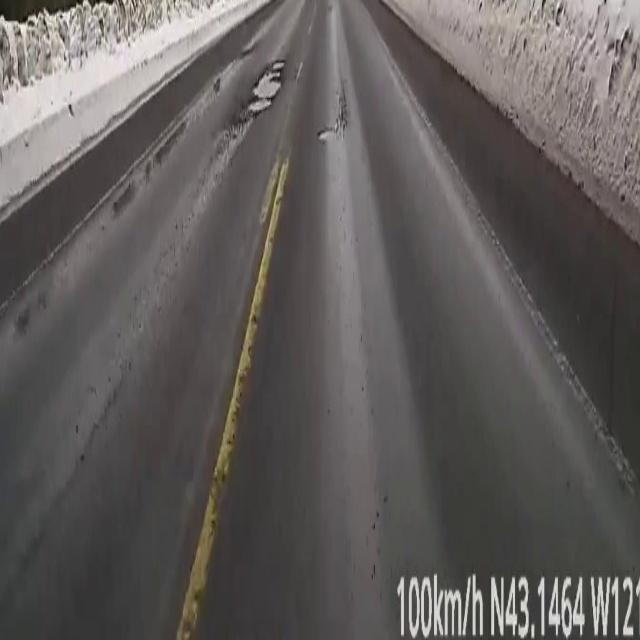pothole: (242, 58, 284, 123)
